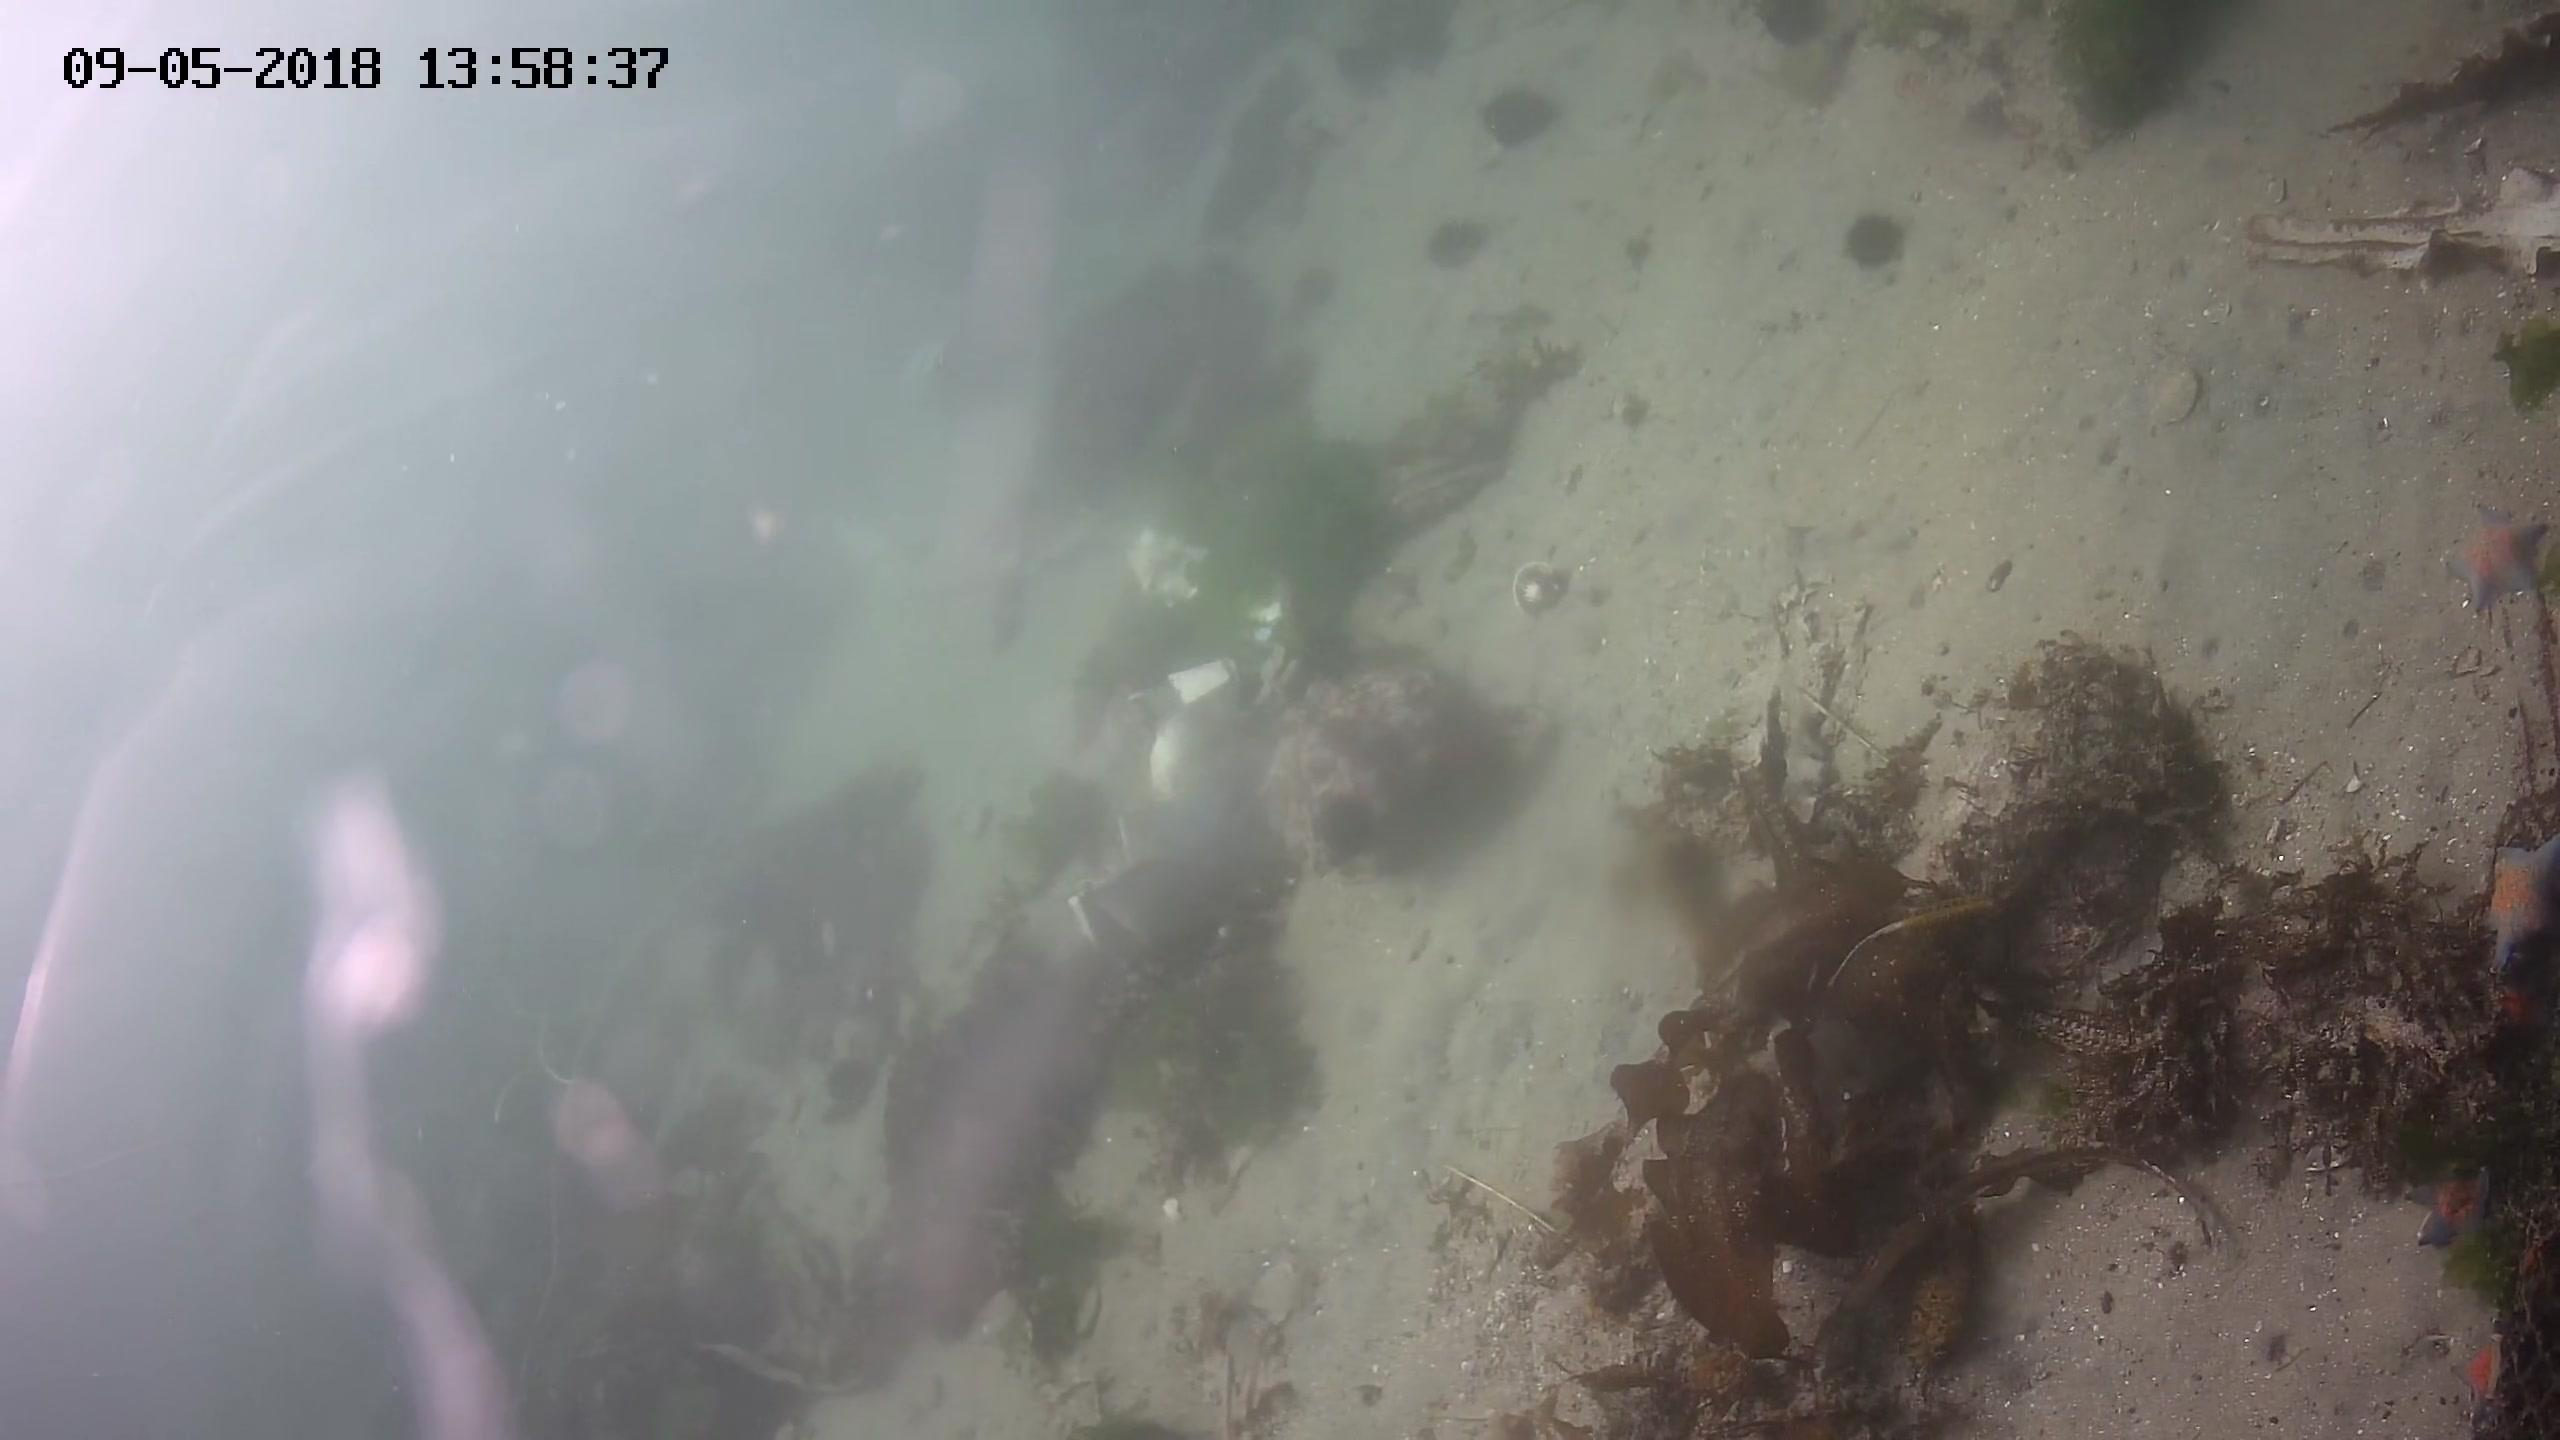scallop: (2140, 367, 2208, 431), (1507, 557, 1568, 624)
starfish: (2446, 499, 2558, 615), (2477, 828, 2560, 960), (2405, 1157, 2500, 1254), (2449, 1335, 2527, 1428), (2483, 960, 2556, 1037), (2511, 1225, 2560, 1312)
